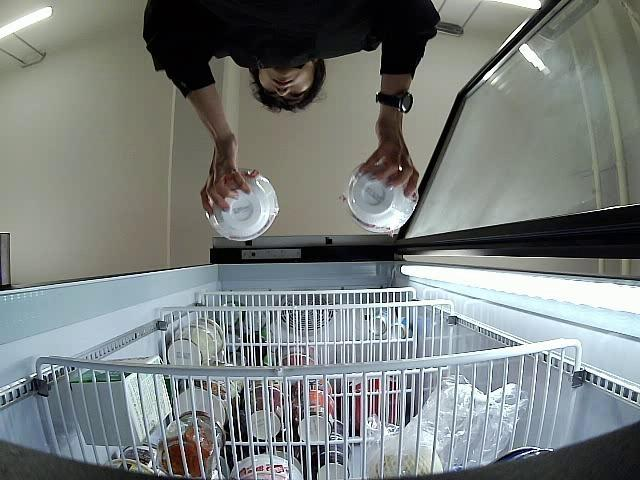09_yukGaeJang: (347, 160, 418, 234), (206, 169, 279, 240)
